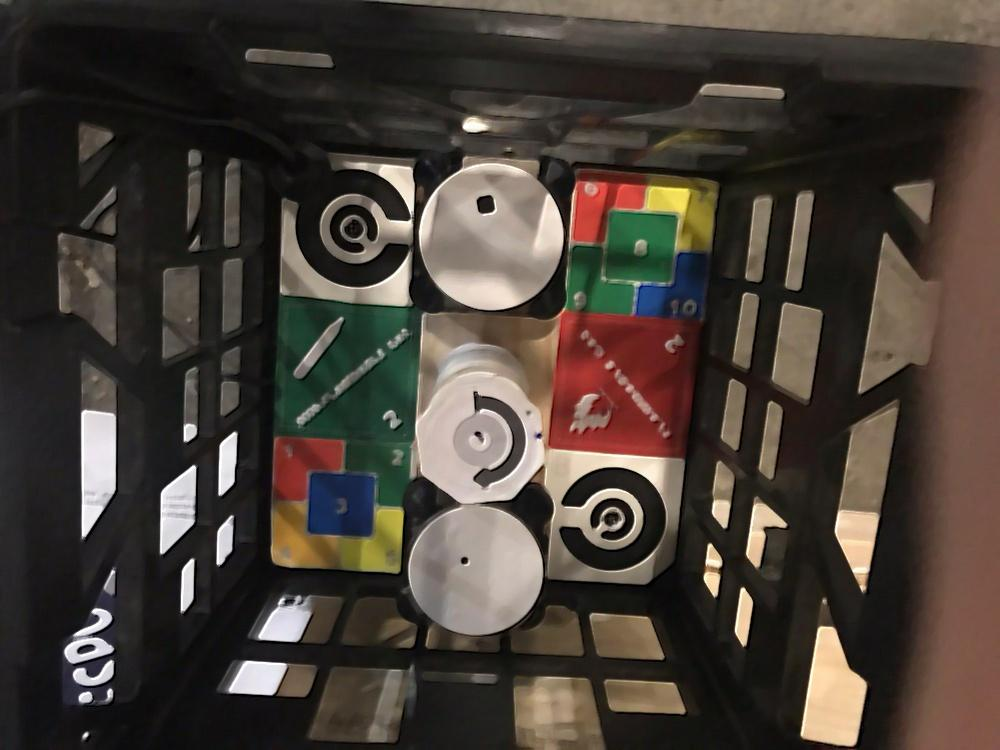flammable: (548, 311, 707, 459)
non-flammable-gas: (275, 301, 421, 440)
